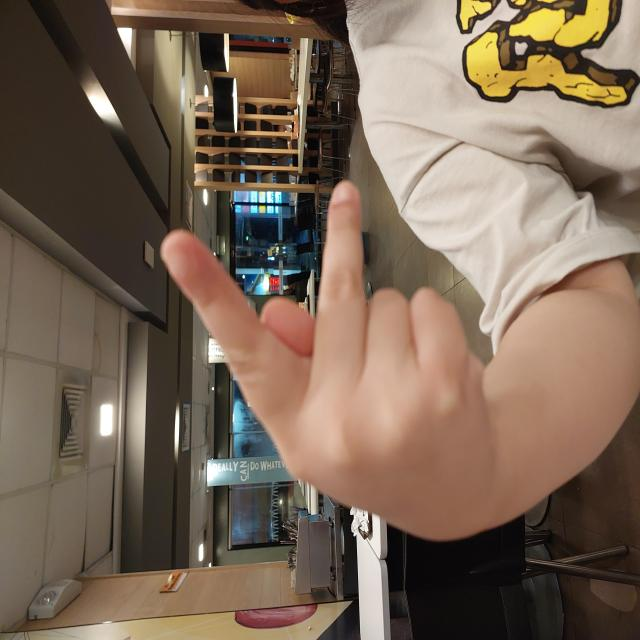K: (99, 159, 462, 494)
